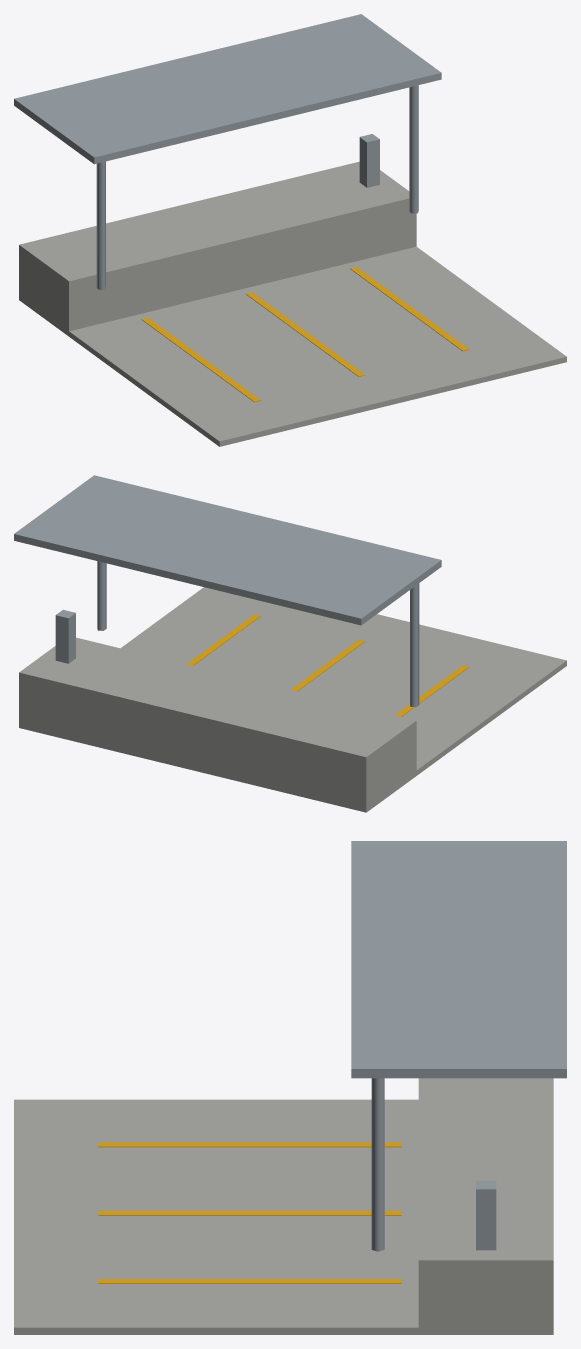
Rendered from road_industrial_viii_loading_bay_lod1.glb.
3 renders of one model, top to bottom at view 1: azimuth 30°, elevation 25°; view 2: azimuth 150°, elevation 25°; view 3: azimuth 270°, elevation 25°, orthographic. The views are drawn at different scales.
Visible parts, largest first — view 1: body; view 2: body; view 3: body.
Boxes of the visible parts, left/top/right/bottom form: body: left=14, top=14, right=566, bottom=446; body: left=14, top=475, right=566, bottom=812; body: left=14, top=841, right=566, bottom=1334.
Bounding box in the file's own units: 8 × 4.35 × 8.2.
